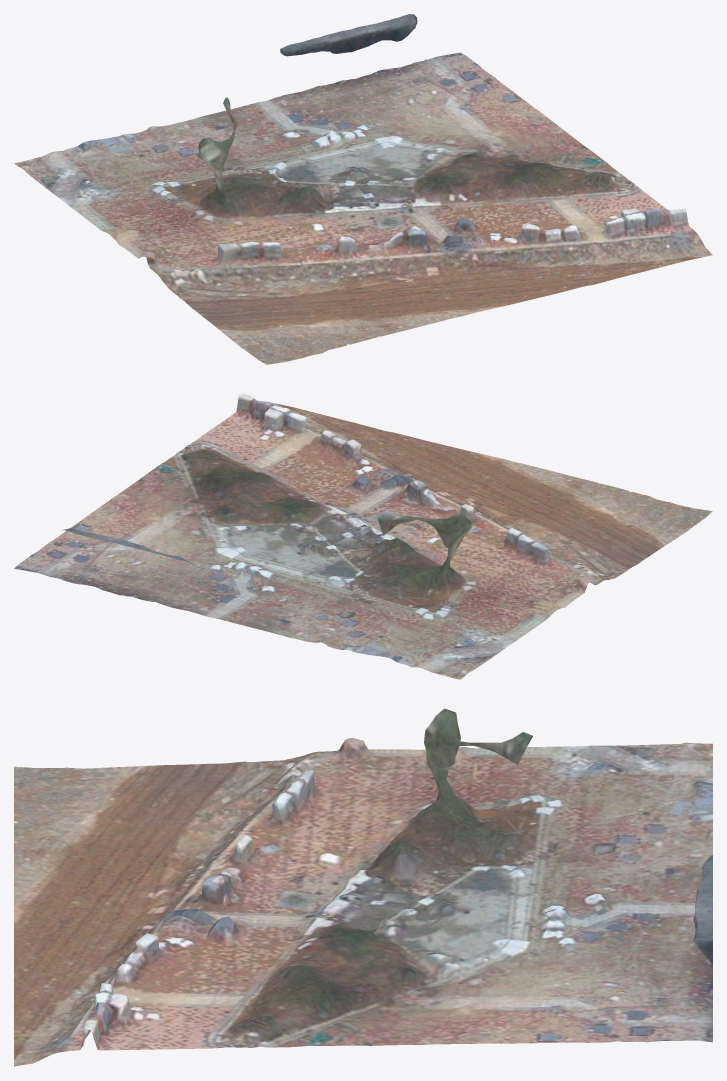
File: Tile__003__006_L21_0001100.glb
3 renders of one model, top to bottom at view 1: azimuth 30°, elevation 25°; view 2: azimuth 150°, elevation 25°; view 3: azimuth 270°, elevation 25°, orthographic. The views are drawn at different scales.
Parts seen in each view (by area): view 1: root; view 2: root; view 3: root.
Boxes of the visible parts, x1,y1,x2,y2 form: root: [14, 14, 712, 364]; root: [14, 393, 712, 679]; root: [14, 708, 712, 1066].
Size of the model in its own units: 25.63 by 5.33 by 25.13.
1 material, 1 textured.
